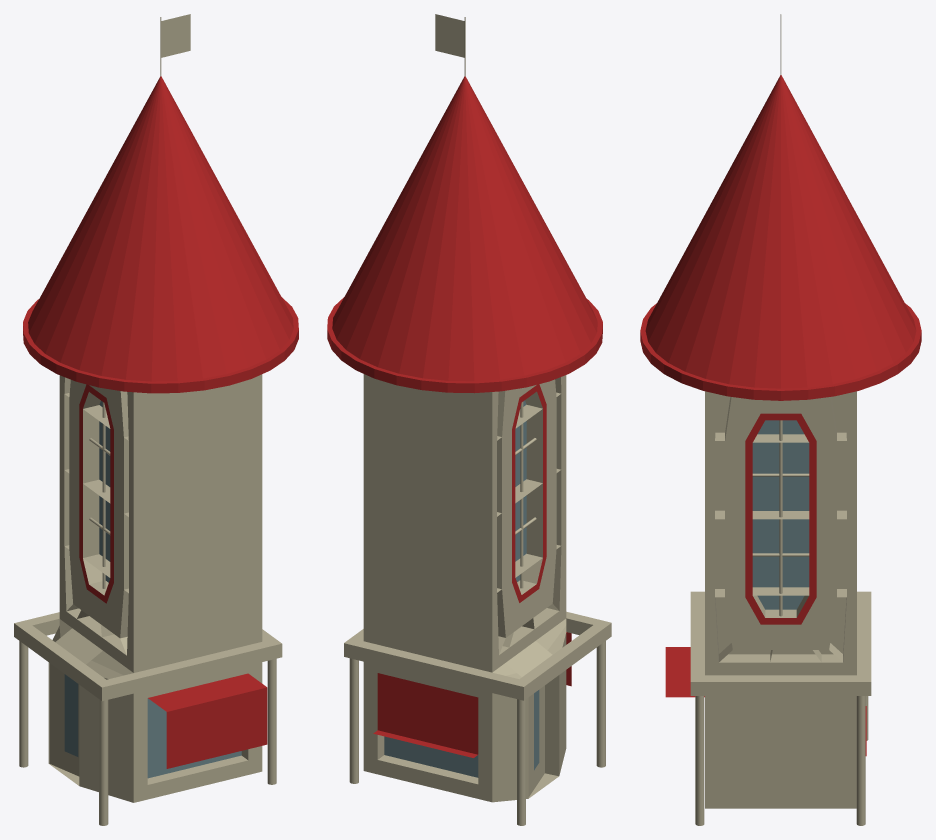
File: TorreVilla 1.fbx
3 views of the same model, side by side, from view 1: azimuth 30°, elevation 25°; view 2: azimuth 150°, elevation 25°; view 3: azimuth 270°, elevation 25° (orthographic). The views are drawn at different scales.
Parts seen in each view (by area): view 1: Cube; view 2: Cube; view 3: Cube.
Part boxes in pixels (x1,y1,x2,y2): Cube: (14,14,298,825); Cube: (327,14,611,825); Cube: (640,14,921,825).
Bounding box in the file's own units: 374 × 1122 × 370.
